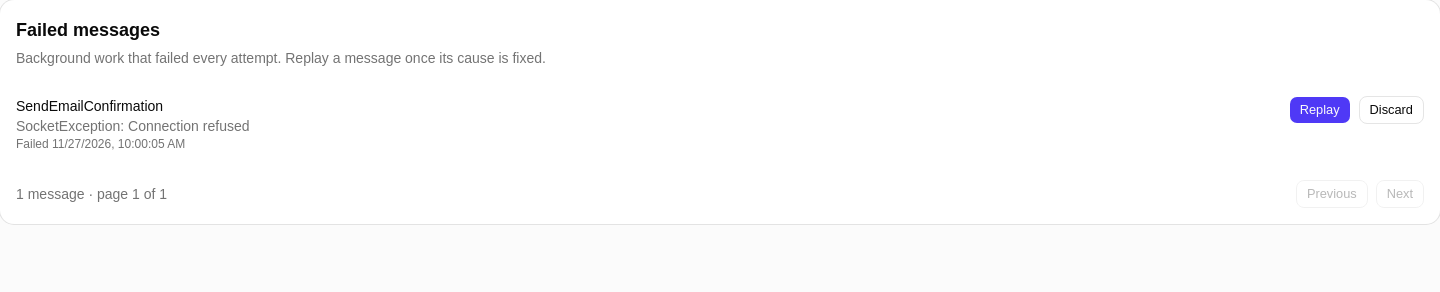
Test: FailedMessagesPage › lists failed messages and replays one
Expected: the text "SendEmailConfirmation" is shown, [16,98,163,114]
Expected: the text "SocketException: Connection refused" is shown, [16,118,250,134]
Click the button "Replay".
click(1320, 110)  # box [1289,96,1351,124]
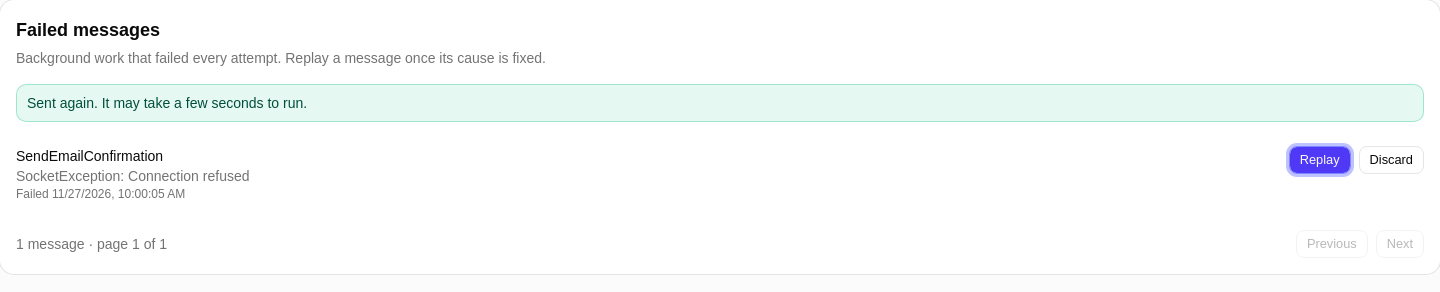
Expected: the message shows "Sent again", [27,95,307,111]
